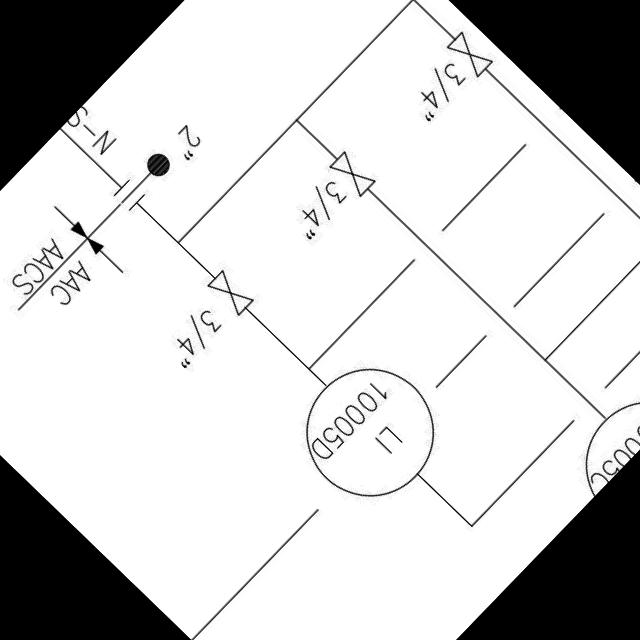GV: (200, 263, 260, 322), (441, 25, 501, 84), (325, 144, 383, 201)
